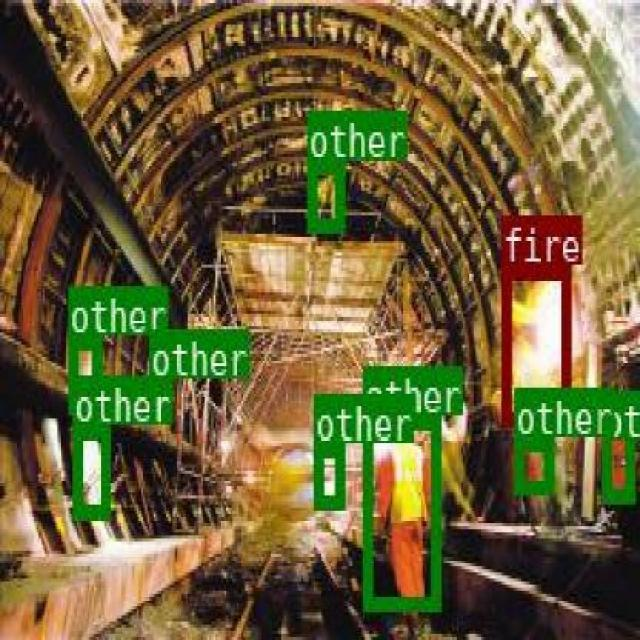Fire: (499, 262, 568, 424)
